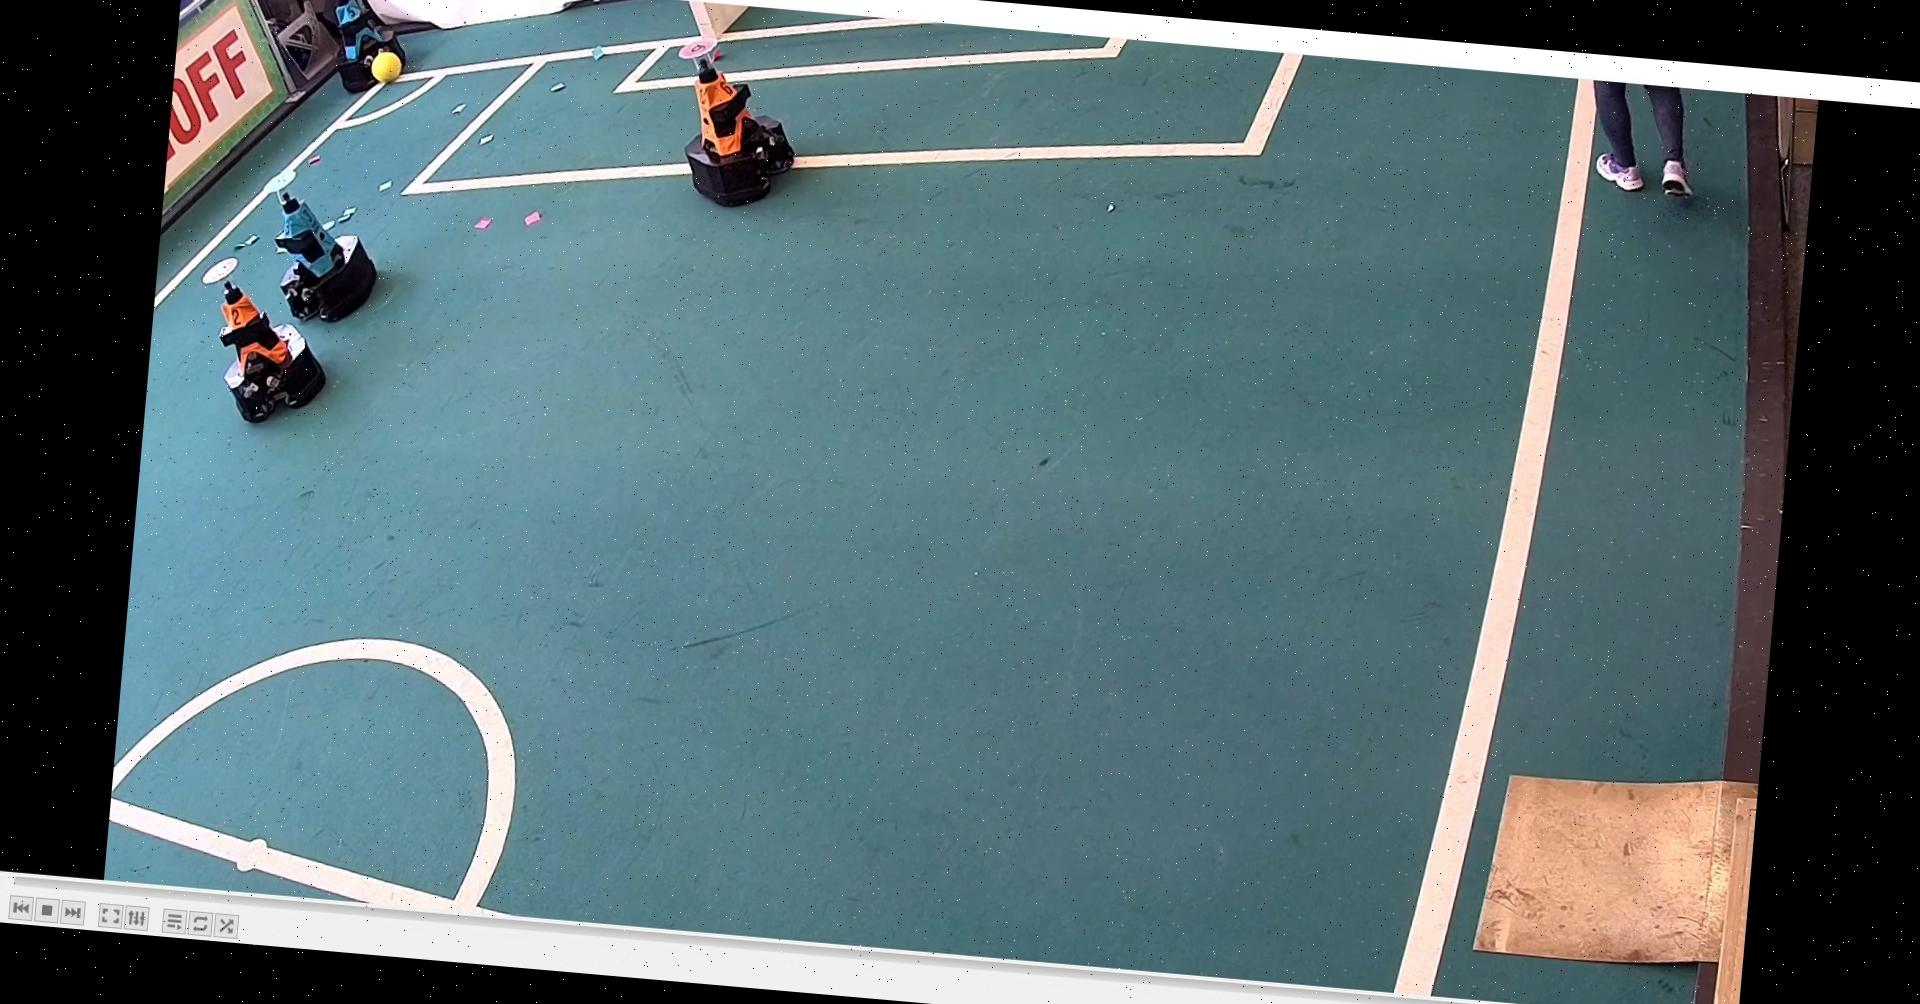Ball: (366, 46, 408, 88)
Team_Blue: (250, 164, 396, 327), (309, 0, 419, 95)
Team_Red: (662, 28, 810, 212), (190, 250, 335, 432)
